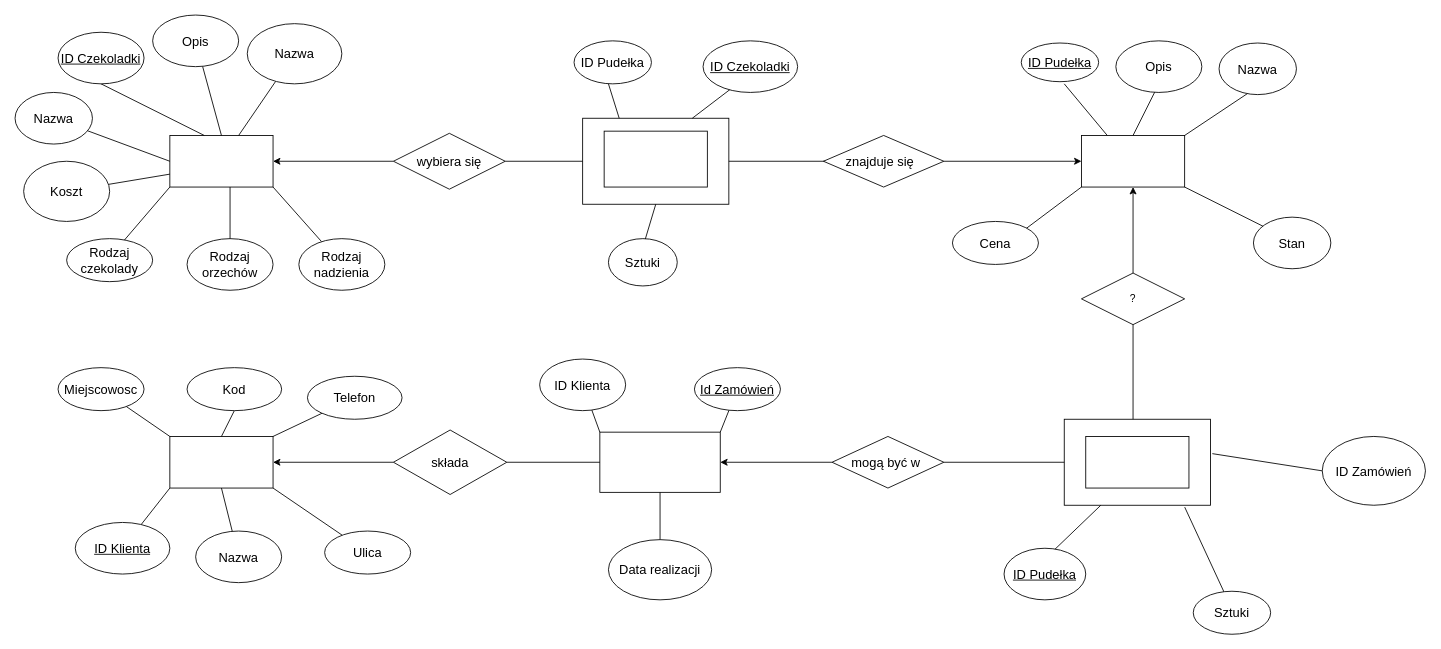
The diagram is 1441 pixels wide and 649 high, and some of its shapes have lost their labels. The shapes that lost their labels are listed below. From the top down, each one's centre as x and y in pixels, then its label:
(x=221, y=161): Czekoladki
(x=655, y=158): Zawartość
(x=1133, y=161): Pudełka
(x=221, y=462): Klienci
(x=659, y=461): Zamówienie
(x=1137, y=462): Artykuły
